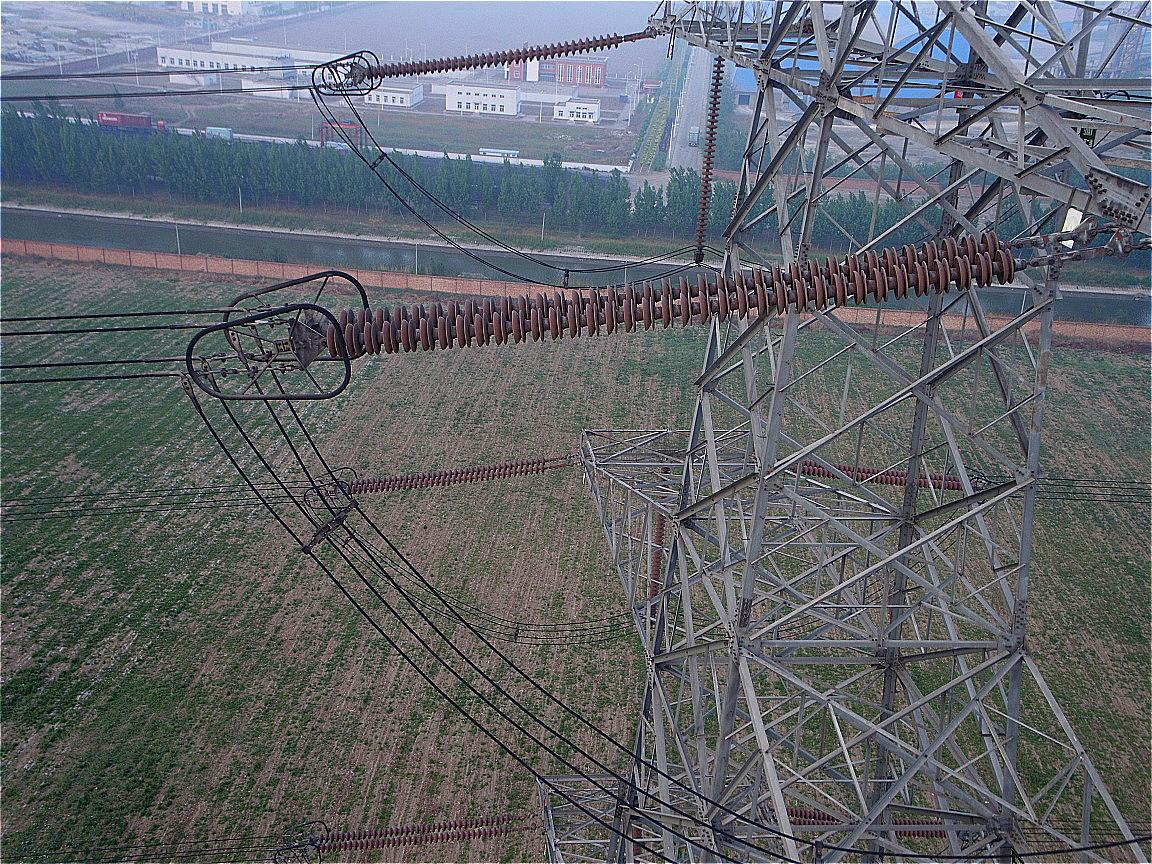insultor1: (365, 32, 621, 81), (317, 812, 515, 855), (348, 455, 547, 496), (692, 56, 732, 249)
insultor2: (324, 232, 1017, 360)
